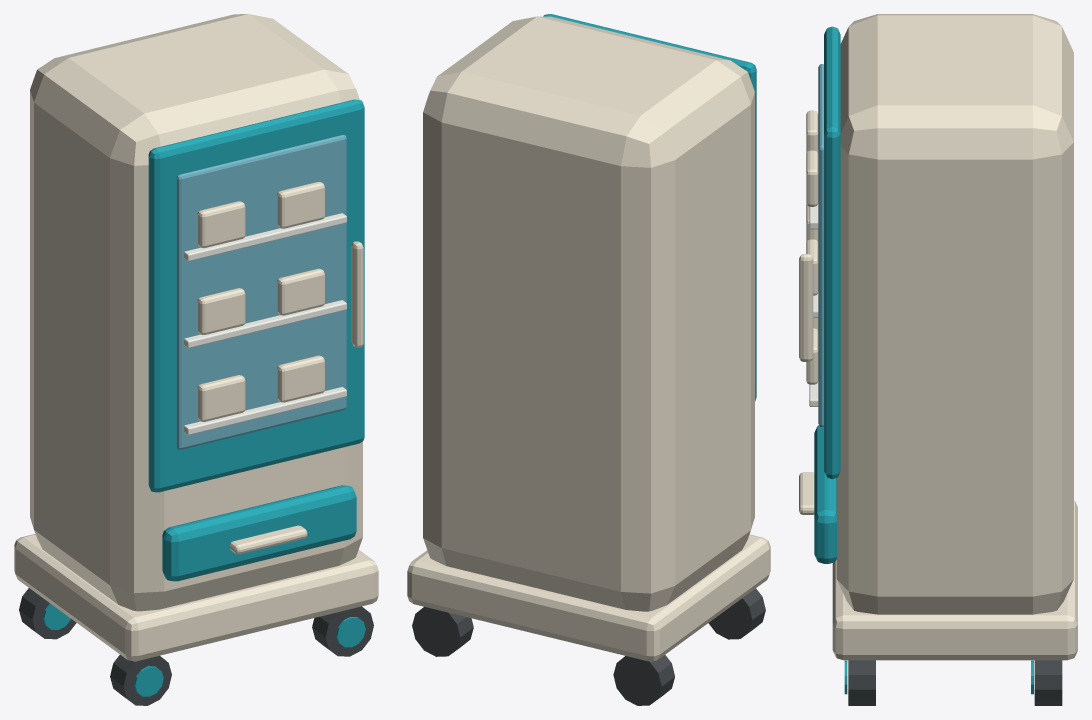
File: supply_cart_advanced.glb
3 views of the same model, side by side, from view 1: azimuth 30°, elevation 25°; view 2: azimuth 150°, elevation 25°; view 3: azimuth 270°, elevation 25° (orthographic). The views are drawn at different scales.
Parts seen in each view (by area): view 1: STATIC_cream.004, STATIC_glass.004, STATIC_teal.006, MOVING_drawer, STATIC_white.004, STATIC_rubber.006, MOVING_door_handle; view 2: STATIC_cream.004, STATIC_rubber.006, STATIC_teal.006; view 3: STATIC_cream.004, STATIC_teal.006, STATIC_rubber.006, MOVING_drawer, STATIC_glass.004, MOVING_door_handle, STATIC_white.004.
Boxes of the visible parts, bbox=[...] form: STATIC_cream.004: bbox=[14, 14, 378, 661]; STATIC_glass.004: bbox=[176, 135, 346, 449]; STATIC_teal.006: bbox=[43, 99, 365, 696]; MOVING_drawer: bbox=[162, 485, 356, 581]; STATIC_white.004: bbox=[184, 213, 346, 434]; STATIC_rubber.006: bbox=[19, 588, 373, 705]; MOVING_door_handle: bbox=[351, 241, 363, 347]; STATIC_cream.004: bbox=[407, 16, 770, 661]; STATIC_rubber.006: bbox=[412, 588, 765, 705]; STATIC_teal.006: bbox=[543, 14, 756, 401]; STATIC_cream.004: bbox=[799, 14, 1077, 660]; STATIC_teal.006: bbox=[824, 26, 1033, 694]; STATIC_rubber.006: bbox=[848, 660, 1062, 705]; MOVING_drawer: bbox=[814, 425, 836, 563]; STATIC_glass.004: bbox=[818, 64, 823, 426]; MOVING_door_handle: bbox=[799, 254, 813, 361]; STATIC_white.004: bbox=[809, 204, 818, 406].
Size of the model in its own units: 0.73 by 1.6 by 0.6825.
